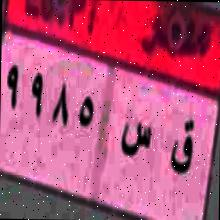5: (78, 91, 96, 135)
8: (50, 78, 70, 129)
9: (5, 60, 20, 118), (29, 70, 43, 124)
qaaf: (169, 108, 196, 180)
seen: (120, 115, 152, 169)
